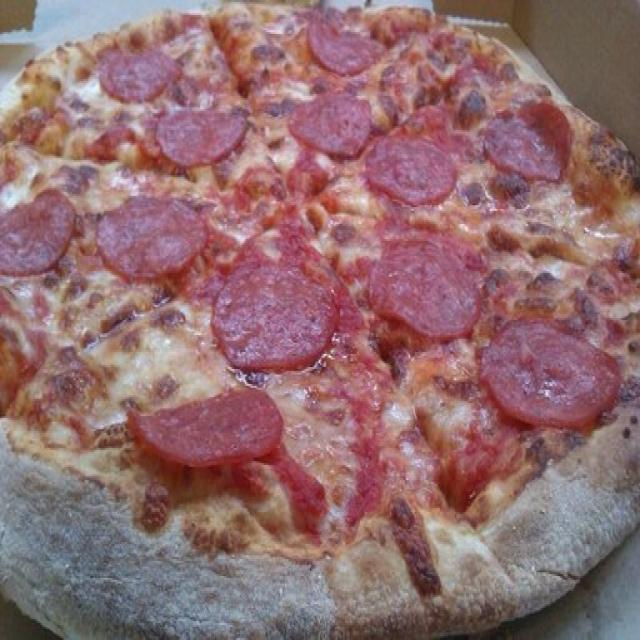Pepperoni: (479, 315, 626, 430), (204, 264, 332, 372), (135, 389, 285, 469), (98, 178, 206, 284), (372, 242, 477, 340), (482, 98, 576, 183), (0, 184, 73, 282), (372, 136, 453, 211), (283, 93, 374, 153), (166, 105, 247, 166), (308, 14, 387, 73), (99, 48, 181, 100)
Pizza: (0, 6, 640, 631)
